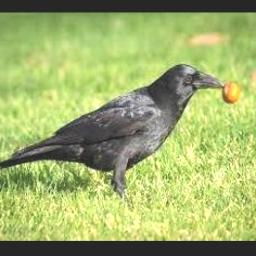Crow: (0, 62, 226, 198)
